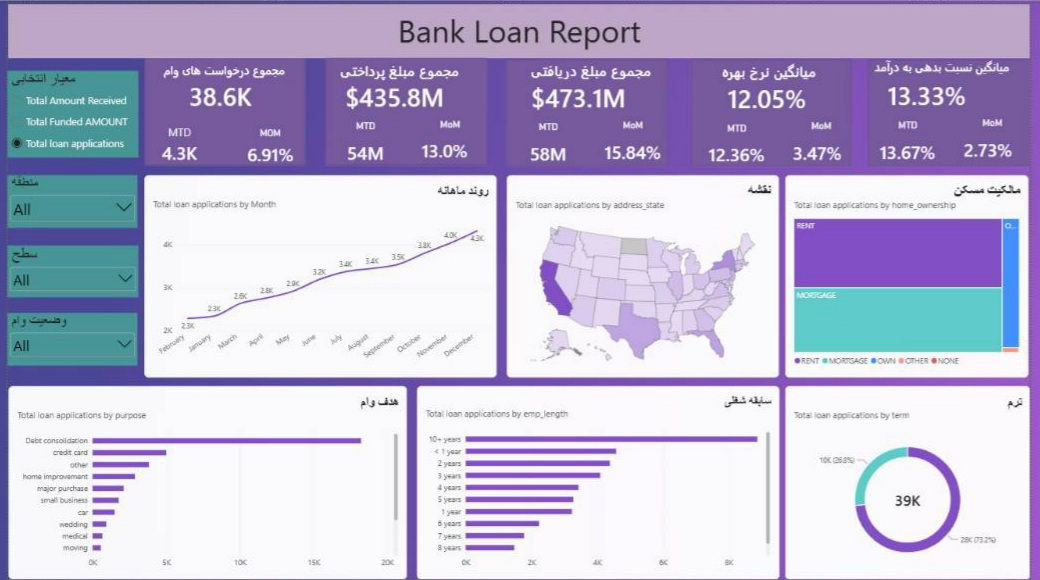

The dashboard page shown, as its layout file describes it:
{"tool":"powerbi","page":{"name":"Page 2","canvas":[1920,1080],"ordinal":1},"visuals":[{"type":"cardVisual","title":"MTD","fields":{"Data":["financial_loan.MTD Avg DTI"]},"box":[1618.6,216.3,144.9,82.5],"z":0,"group":"g5"},{"type":"cardVisual","title":"MTD","fields":{"Data":["financial_loan.MTD Funded Amount"]},"box":[599.8,218.2,144.9,82.5],"z":0,"group":"g2"},{"type":"cardVisual","title":"MTD","fields":{"Data":["financial_loan.MTD Amount Received"]},"box":[942.5,220,144.9,82.5],"z":0,"group":"g3"},{"type":"cardVisual","title":"MTD","fields":{"Data":["financial_loan.MTD Avg Int Rate"]},"box":[1296.8,221.8,144.9,82.5],"z":0,"group":"g4"},{"type":"cardVisual","fields":{"Data":["financial_loan.MTD Loan Application"]},"box":[256.8,227.3,132.1,73.4],"z":0,"group":"g1"},{"type":"treemap","title":"مالکیت مسکن ","fields":{"Group":["financial_loan.home_ownership"],"Values":["financial_loan.Total loan applications"]},"box":[1460.9,321.4,457,379.8],"z":0},{"type":"cardVisual","title":"MoM","fields":{"Data":["financial_loan.MoM DTI"]},"box":[1780.4,213,139.4,82.5],"z":1000,"group":"g5"},{"type":"cardVisual","title":"MoM","fields":{"Data":["financial_loan.MoM Funded Amount"]},"box":[761.6,214.8,139.4,82.5],"z":1000,"group":"g2"},{"type":"cardVisual","title":"MoM","fields":{"Data":["financial_loan.MoM Amount Received"]},"box":[1104.3,216.7,139.4,82.5],"z":1000,"group":"g3"},{"type":"cardVisual","title":"MoM","fields":{"Data":["financial_loan.MoM Avg Interest Rate"]},"box":[1458.6,218.5,139.4,82.5],"z":1000,"group":"g4"},{"type":"cardVisual","title":"MOM","fields":{"Data":["financial_loan.MoM Loan Application"]},"box":[433.6,231,121.1,64.2],"z":1000,"group":"g1"},{"type":"shapeMap","title":"نقشه","fields":{"Category":["financial_loan.address_state"],"Value":["financial_loan.Total loan applications"]},"box":[937,321.4,511.3,379.8],"z":1000},{"type":"shape","box":[256.8,100.9,302.6,201.7],"z":2000},{"type":"cardVisual","fields":{"Data":["financial_loan.Total loan applications"]},"box":[324.2,139.5,152.2,64.2],"z":2000,"group":"g1"},{"type":"cardVisual","fields":{"Data":["financial_loan.Avg DTI"]},"box":[1637.2,139.6,221.9,62.4],"z":2000,"group":"g5"},{"type":"cardVisual","fields":{"Data":["financial_loan.Total Funded AMOUNT"]},"box":[618.4,141.4,221.9,62.4],"z":2000,"group":"g2"},{"type":"cardVisual","fields":{"Data":["financial_loan.Total Amount Received"]},"box":[961.1,143.3,221.9,62.4],"z":2000,"group":"g3"},{"type":"cardVisual","fields":{"Data":["financial_loan.Avg Interest Rate"]},"box":[1315.4,145.1,221.9,62.4],"z":2000,"group":"g4"},{"type":"shape","box":[1.4,0,1918.6,100.9],"z":3000},{"type":"textbox","box":[1619.5,102.7,273.4,41.7],"z":3000,"group":"g5"},{"type":"textbox","box":[943.4,106.4,273.4,41.7],"z":3000,"group":"g3"},{"type":"textbox","box":[607.5,107.2,273.4,41.7],"z":3000,"group":"g2"},{"type":"textbox","box":[1297.7,108.2,273.4,41.7],"z":3000,"group":"g4"},{"type":"textbox","box":[273.7,109,273.4,41.7],"z":3000,"group":"g1"},{"type":"textbox","box":[1.4,10,1918.6,100.9],"z":4000},{"type":"group","id":"g1","title":"Group 1","box":[256.8,109,297.8,191.7],"z":5000},{"type":"shape","box":[598,100.9,302.6,201.7],"z":6000},{"type":"shape","box":[937.3,102.7,302.6,201.7],"z":7000},{"type":"shape","box":[1282.1,102.7,302.6,201.7],"z":8000},{"type":"shape","box":[1616,102,302.6,201.7],"z":9000},{"type":"group","id":"g2","title":"Group 1","box":[599.8,107.2,301.2,193.5],"z":10000},{"type":"group","id":"g3","title":"Group 1","box":[942.5,106.4,300.8,196.3],"z":11000},{"type":"group","id":"g4","title":"Group 1","box":[1296.8,108.2,301.2,196.2],"z":12000},{"type":"group","id":"g5","title":"Group 1","box":[1618.6,102.7,301.2,196.2],"z":13000},{"type":"lineChart","title":"روند ماهانه ","fields":{"Category":["Date table.Month"],"Y":["financial_loan.Total loan applications"]},"box":[256.7,321.4,661.6,379.8],"z":17000},{"type":"clusteredBarChart","title":"هدف وام","fields":{"Category":["financial_loan.purpose"],"Y":["financial_loan.Total loan applications"]},"box":[2.1,717.9,748.4,363.2],"z":18000},{"type":"clusteredBarChart","title":"سابقه شغلی ","fields":{"Category":["financial_loan.emp_length"],"Y":["financial_loan.Total loan applications"]},"box":[768,717.9,680.5,363.2],"z":19000},{"type":"donutChart","title":"ترم ","fields":{"Category":["financial_loan.term"],"Y":["financial_loan.Total loan applications"]},"box":[1460.9,717.9,460.4,363.2],"z":20000},{"type":"slicer","fields":{"Values":["financial_loan.Good vs Bad Loan"]},"box":[0,579.6,244,99],"z":21001},{"type":"slicer","fields":{"Values":["financial_loan.grade"]},"box":[0,453.1,245.8,97.2],"z":21002},{"type":"slicer","fields":{"Values":["financial_loan.address_state"]},"box":[0,321,244,99],"z":21003},{"type":"slicer","fields":{"Values":["Parameter.Parameter"]},"box":[0,124.7,245.8,163.2],"z":21004}]}

Visuals, with their boxes in screenshot pixels (x1, y1, x2, y2), scaled from the page's 1920x1080 canvas onto the 1040x580 screenshot:
"MTD" cardVisual: 877/116/955/160
"MTD" cardVisual: 325/117/403/161
"MTD" cardVisual: 511/118/589/162
"MTD" cardVisual: 702/119/781/163
cardVisual - financial_loan.MTD Loan Application: 139/122/211/161
"مالکیت مسکن " treemap: 791/173/1039/377
"MoM" cardVisual: 964/114/1039/159
"MoM" cardVisual: 413/115/488/160
"MoM" cardVisual: 598/116/674/161
"MoM" cardVisual: 790/117/866/162
"MOM" cardVisual: 235/124/300/159
"نقشه" shapeMap: 508/173/784/377
shape: 139/54/303/163
cardVisual - financial_loan.Total loan applications: 176/75/258/109
cardVisual - financial_loan.Avg DTI: 887/75/1007/108
cardVisual - financial_loan.Total Funded AMOUNT: 335/76/455/109
cardVisual - financial_loan.Total Amount Received: 521/77/641/110
cardVisual - financial_loan.Avg Interest Rate: 713/78/833/111
shape: 1/0/1039/54
textbox: 877/55/1025/78
textbox: 511/57/659/80
textbox: 329/58/477/80
textbox: 703/58/851/81
textbox: 148/59/296/81
textbox: 1/5/1039/60
"Group 1" group: 139/59/300/161
shape: 324/54/488/163
shape: 508/55/672/163
shape: 694/55/858/163
shape: 875/55/1039/163
"Group 1" group: 325/58/488/161
"Group 1" group: 511/57/673/163
"Group 1" group: 702/58/866/163
"Group 1" group: 877/55/1039/161
"روند ماهانه " lineChart: 139/173/497/377
"هدف وام" clusteredBarChart: 1/386/407/579
"سابقه شغلی " clusteredBarChart: 416/386/785/579
"ترم " donutChart: 791/386/1039/579
slicer - financial_loan.Good vs Bad Loan: 0/311/132/364
slicer - financial_loan.grade: 0/243/133/296
slicer - financial_loan.address_state: 0/172/132/226
slicer - Parameter.Parameter: 0/67/133/155
